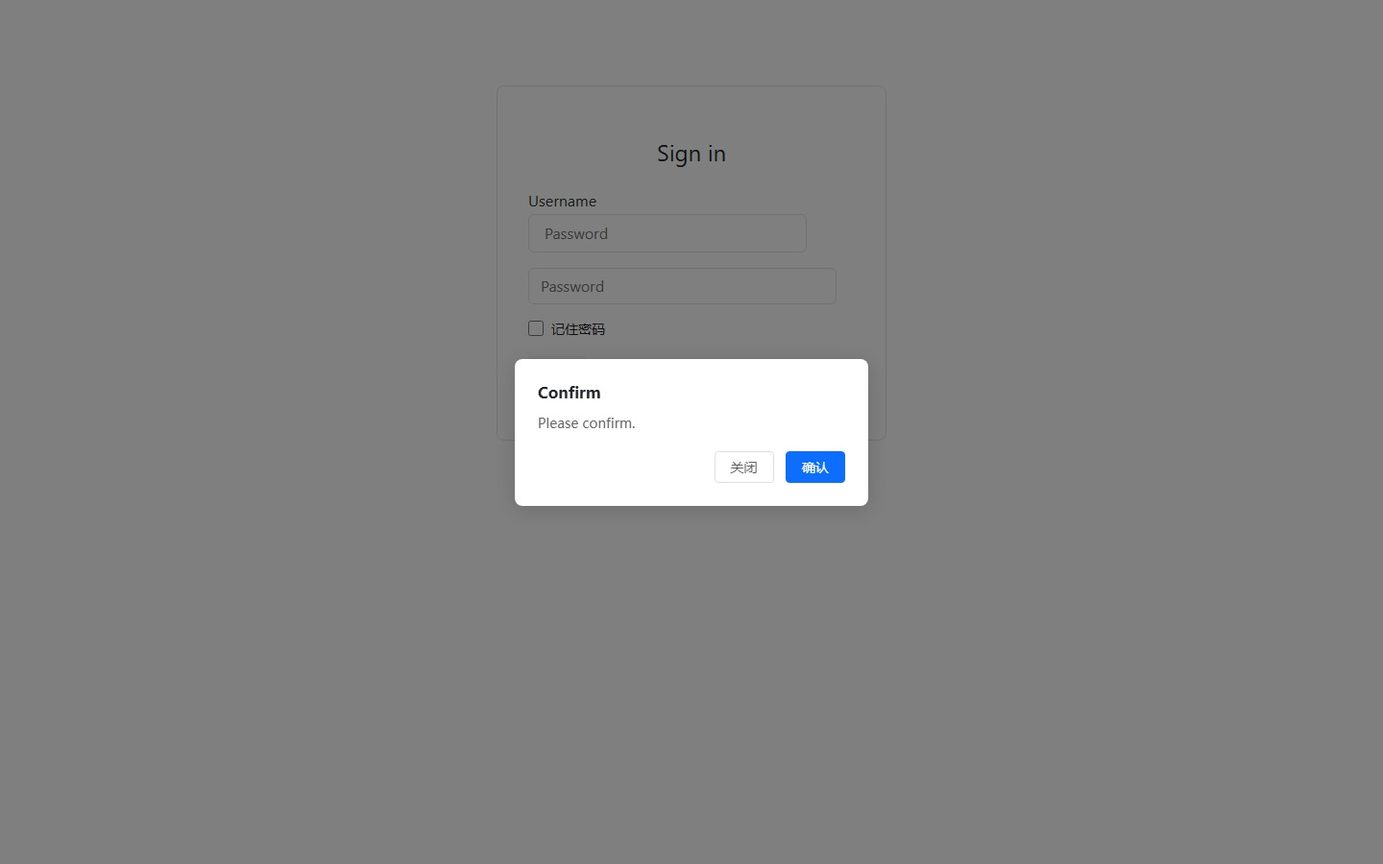button: (714, 451, 774, 482), (786, 451, 845, 482), (528, 356, 585, 377)
checkbox: (528, 321, 544, 336)
icon: (551, 319, 605, 338)
input: (528, 268, 837, 304), (528, 214, 807, 252)
link: (668, 393, 715, 408)
modal: (0, 0, 1383, 864)
radio: (528, 319, 605, 338)
